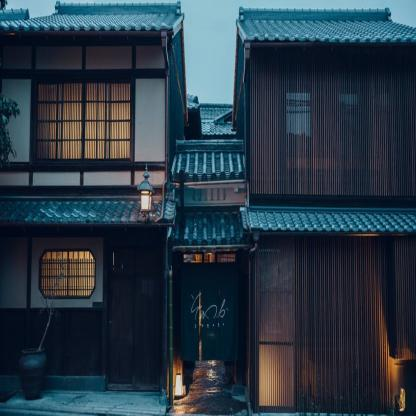Blind: (34, 78, 132, 162), (180, 265, 239, 362), (38, 249, 96, 299)
Building Outline: (0, 0, 416, 416)
Dont: (18, 258, 68, 399)
Door: (183, 270, 237, 392)
Facade: (0, 103, 416, 397)
Floor Slab: (0, 195, 416, 203)
Ground Floor: (0, 202, 415, 416)
Roof: (0, 195, 416, 250), (236, 6, 416, 48), (0, 0, 184, 30), (170, 139, 246, 183), (183, 93, 236, 139)
Top Floor: (0, 32, 168, 196), (248, 42, 416, 195)
Window: (34, 78, 132, 162), (38, 249, 96, 299), (286, 92, 311, 145), (334, 92, 358, 145), (183, 255, 237, 263)
